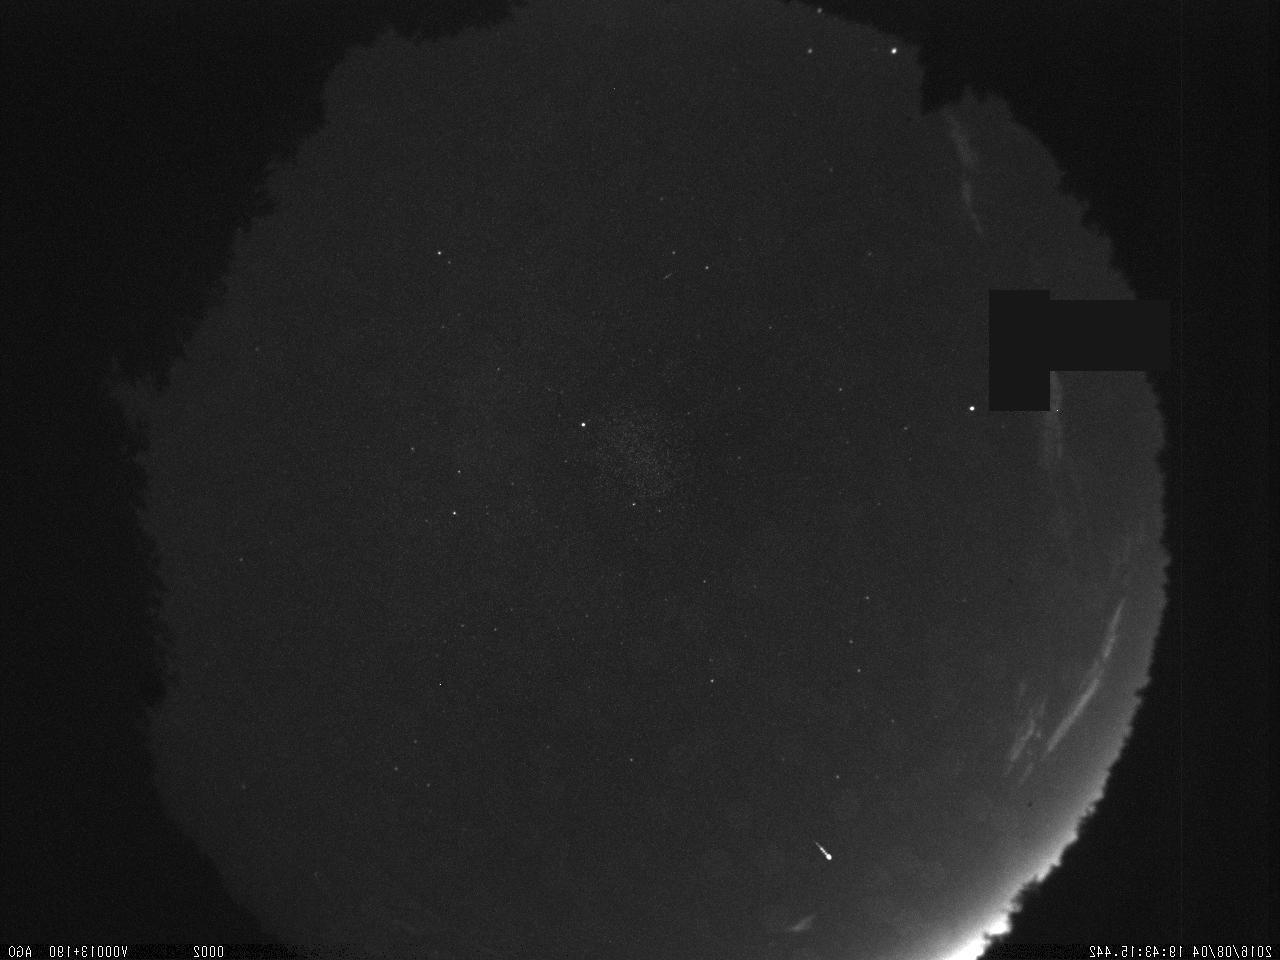meteor: (791, 821, 852, 874)
